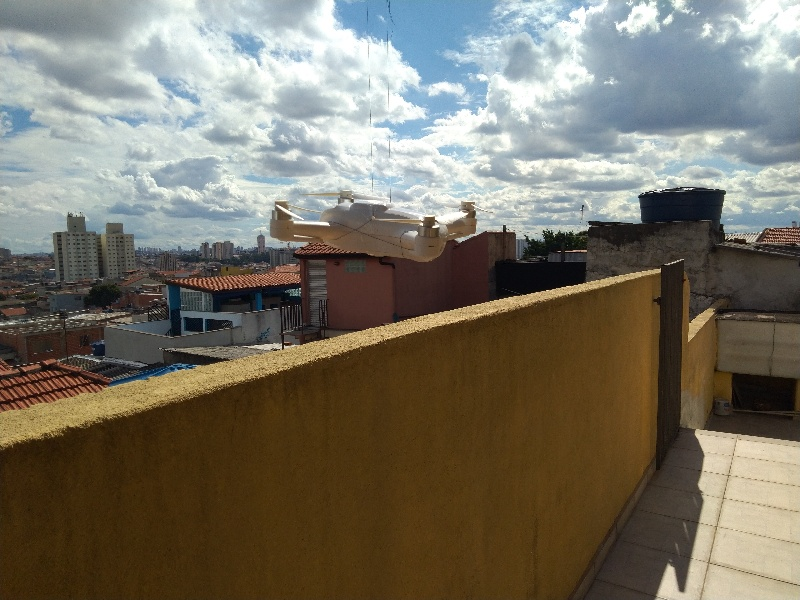drone: (267, 184, 489, 265)
